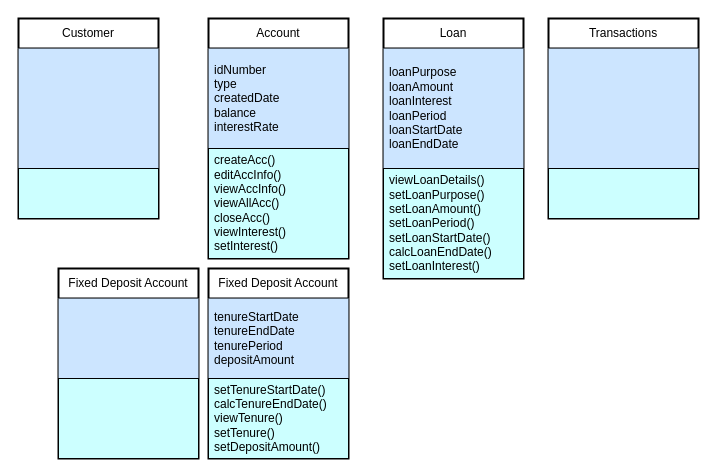
Image size: 716x476. Some labels were removed from this diagram. The shapes that lost their labels are listed below. From the top down, each one's centre as x and y in pixels, then its label:
At (x=88, y=108): "firstName lastName nric dob address email jobTitle jobDescription".
At (x=623, y=108): "referenceNumber sourceOfFunds type transactionDate".
At (x=88, y=193): "registerCustomer() editCustomerInfo() viewCustomerInfo()".
At (x=623, y=193): "viewTransactionHistory() viewSingleTransaction() createTransaction()".
